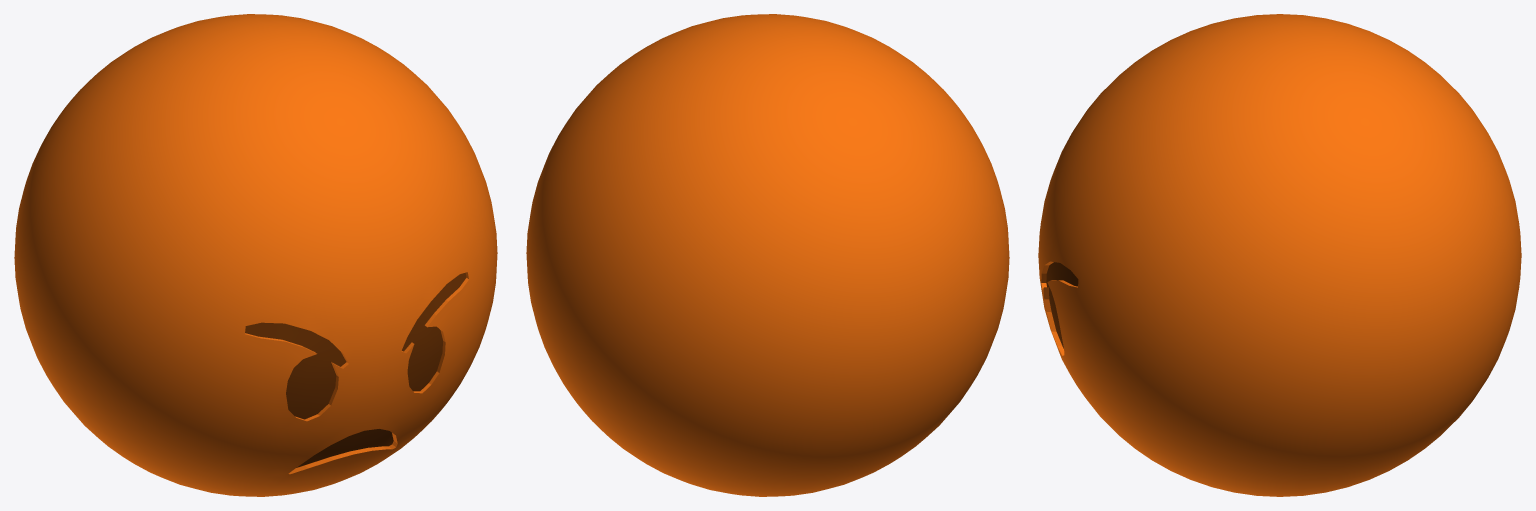
File: anger_emoji.glb
3 views of the same model, side by side, from view 1: azimuth 30°, elevation 25°; view 2: azimuth 150°, elevation 25°; view 3: azimuth 270°, elevation 25° (orthographic).
Visible parts, largest first — view 1: Apple Pouting Face; view 2: Apple Pouting Face; view 3: Apple Pouting Face.
Boxes of the visible parts, x1,y1,x2,y2 form: Apple Pouting Face: (14,14,497,496); Apple Pouting Face: (526,14,1009,496); Apple Pouting Face: (1038,14,1521,496).
Size of the model in its own units: 24.88 by 24.88 by 24.88.
